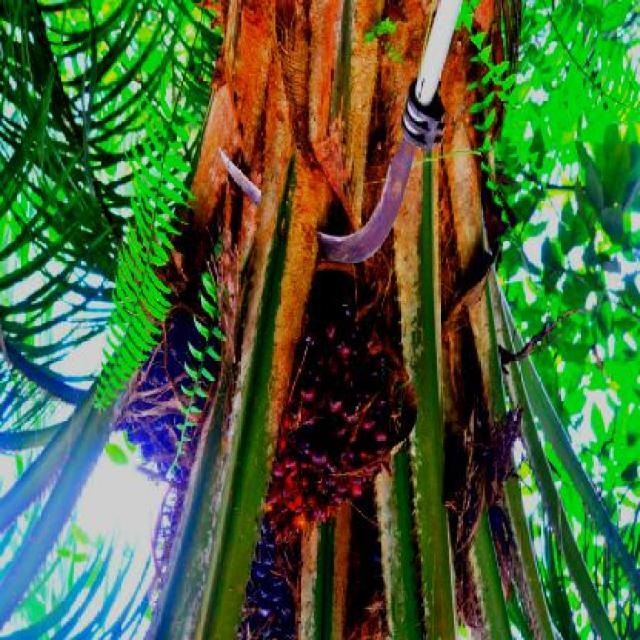palm-oil: (281, 224, 418, 512), (134, 236, 209, 472), (206, 481, 312, 640), (316, 499, 395, 640)
